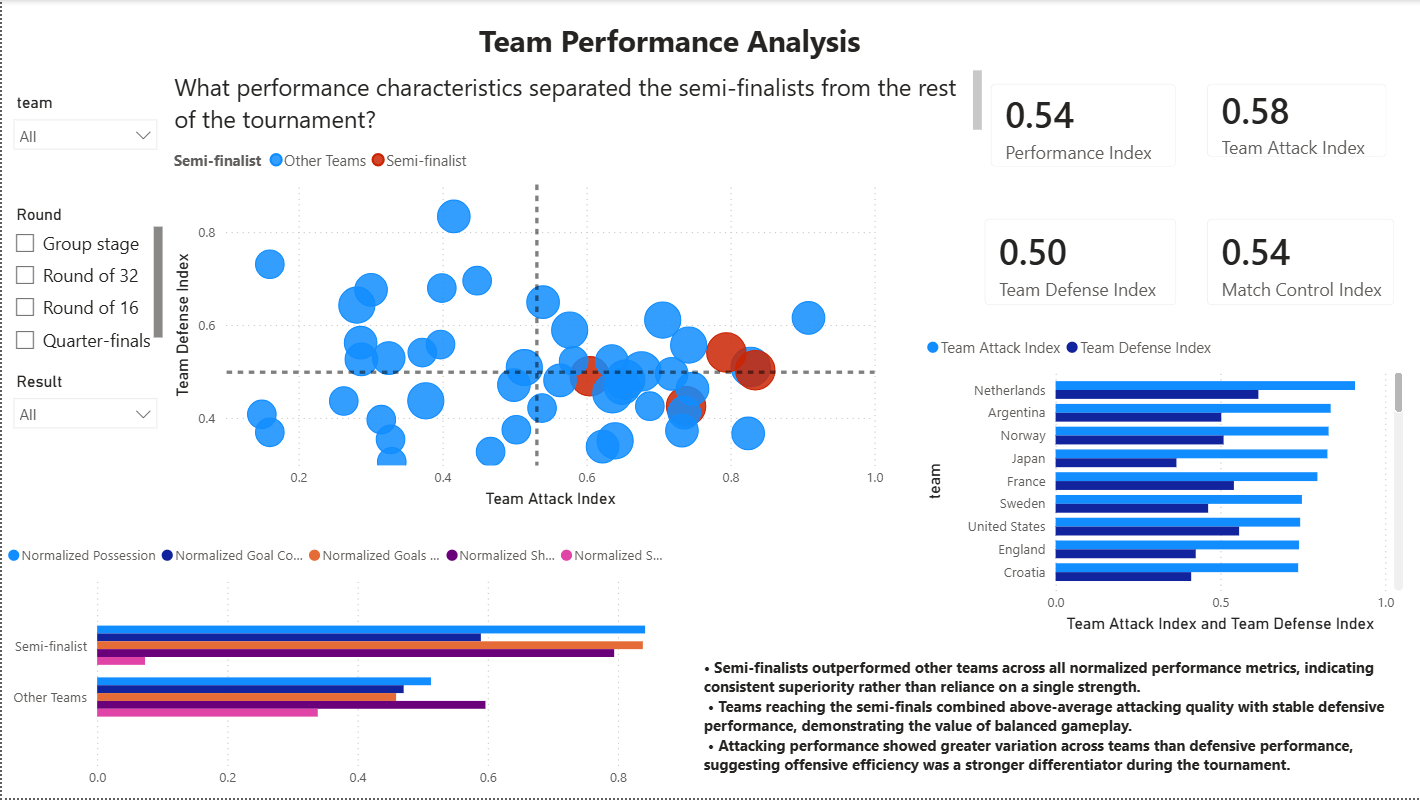

The dashboard page shown, as its layout file describes it:
{"tool":"powerbi","page":{"name":"Team Performance Analysis","canvas":[1280,720],"ordinal":1},"visuals":[{"type":"cardVisual","fields":{"Data":["Measures (2).Performance Index"]},"box":[874.7,58.9,202,109.7],"z":0},{"type":"cardVisual","fields":{"Data":["Measures (2).Team Attack Index"]},"box":[1070,58.9,196.6,100.3],"z":1000},{"type":"cardVisual","fields":{"Data":["Measures (2).Team Defense Index"]},"box":[869.4,180.6,207.3,112.4],"z":2000},{"type":"cardVisual","fields":{"Data":["Measures (2).Match Control Index"]},"box":[1070,180.6,203.3,112.4],"z":3000},{"type":"slicer","fields":{"Values":["DimRound.Round"]},"box":[0,180.6,149.8,149.8],"z":4000},{"type":"slicer","fields":{"Values":["FactTeamMatch.Result"]},"box":[0,330.4,149.8,84.3],"z":5000},{"type":"scatterChart","fields":{"X":["Measures (2).Team Attack Index"],"Y":["Measures (2).Team Defense Index"],"Size":["Measures (2).Matches Played"],"Category":["Dim team.team"],"Series":["Dim team.Semi-finalist"]},"box":[149.8,124.4,650,338.4],"z":6000},{"type":"slicer","fields":{"Values":["Dim team.team"]},"box":[0,78.9,149.8,89.6],"z":7000},{"type":"clusteredBarChart","fields":{"Category":["Dim team.team"],"Y":["Measures (2).Team Attack Index","Measures (2).Team Defense Index"]},"box":[827.9,292.9,440,282.2],"z":8000},{"type":"clusteredBarChart","fields":{"Category":["Dim team.Semi-finalist"],"Y":["Measures (2).Normalized Possession","Measures (2).Normalized Goal Conversion","Measures (2).Normalized Goals Per Match","Measures (2).Normalized Shot Accuracy","Measures (2).Normalized Saves"]},"box":[0,481.5,627.3,238.1],"z":9000},{"type":"textbox","box":[425.3,13.4,402.6,54.8],"z":10000},{"type":"textbox","box":[149.8,58.9,738.3,65.5],"z":11000},{"type":"textbox","box":[627.3,587.2,646,132.4],"z":12000}]}

Visuals, with their boxes in screenshot pixels (x1, y1, x2, y2), scaled from the page's 1280x720 canvas onto the 1420x800 screenshot:
cardVisual - Measures (2).Performance Index: l=970, t=65, r=1194, b=187
cardVisual - Measures (2).Team Attack Index: l=1187, t=65, r=1405, b=177
cardVisual - Measures (2).Team Defense Index: l=964, t=201, r=1194, b=326
cardVisual - Measures (2).Match Control Index: l=1187, t=201, r=1413, b=326
slicer - DimRound.Round: l=0, t=201, r=166, b=367
slicer - FactTeamMatch.Result: l=0, t=367, r=166, b=461
scatterChart - Measures (2).Team Attack Index x Measures (2).Team Defense Index: l=166, t=138, r=887, b=514
slicer - Dim team.team: l=0, t=88, r=166, b=187
clusteredBarChart - Dim team.team x Measures (2).Team Attack Index: l=918, t=325, r=1407, b=639
clusteredBarChart - Dim team.Semi-finalist x Measures (2).Normalized Possession: l=0, t=535, r=696, b=799
textbox: l=472, t=15, r=918, b=76
textbox: l=166, t=65, r=985, b=138
textbox: l=696, t=652, r=1413, b=799
